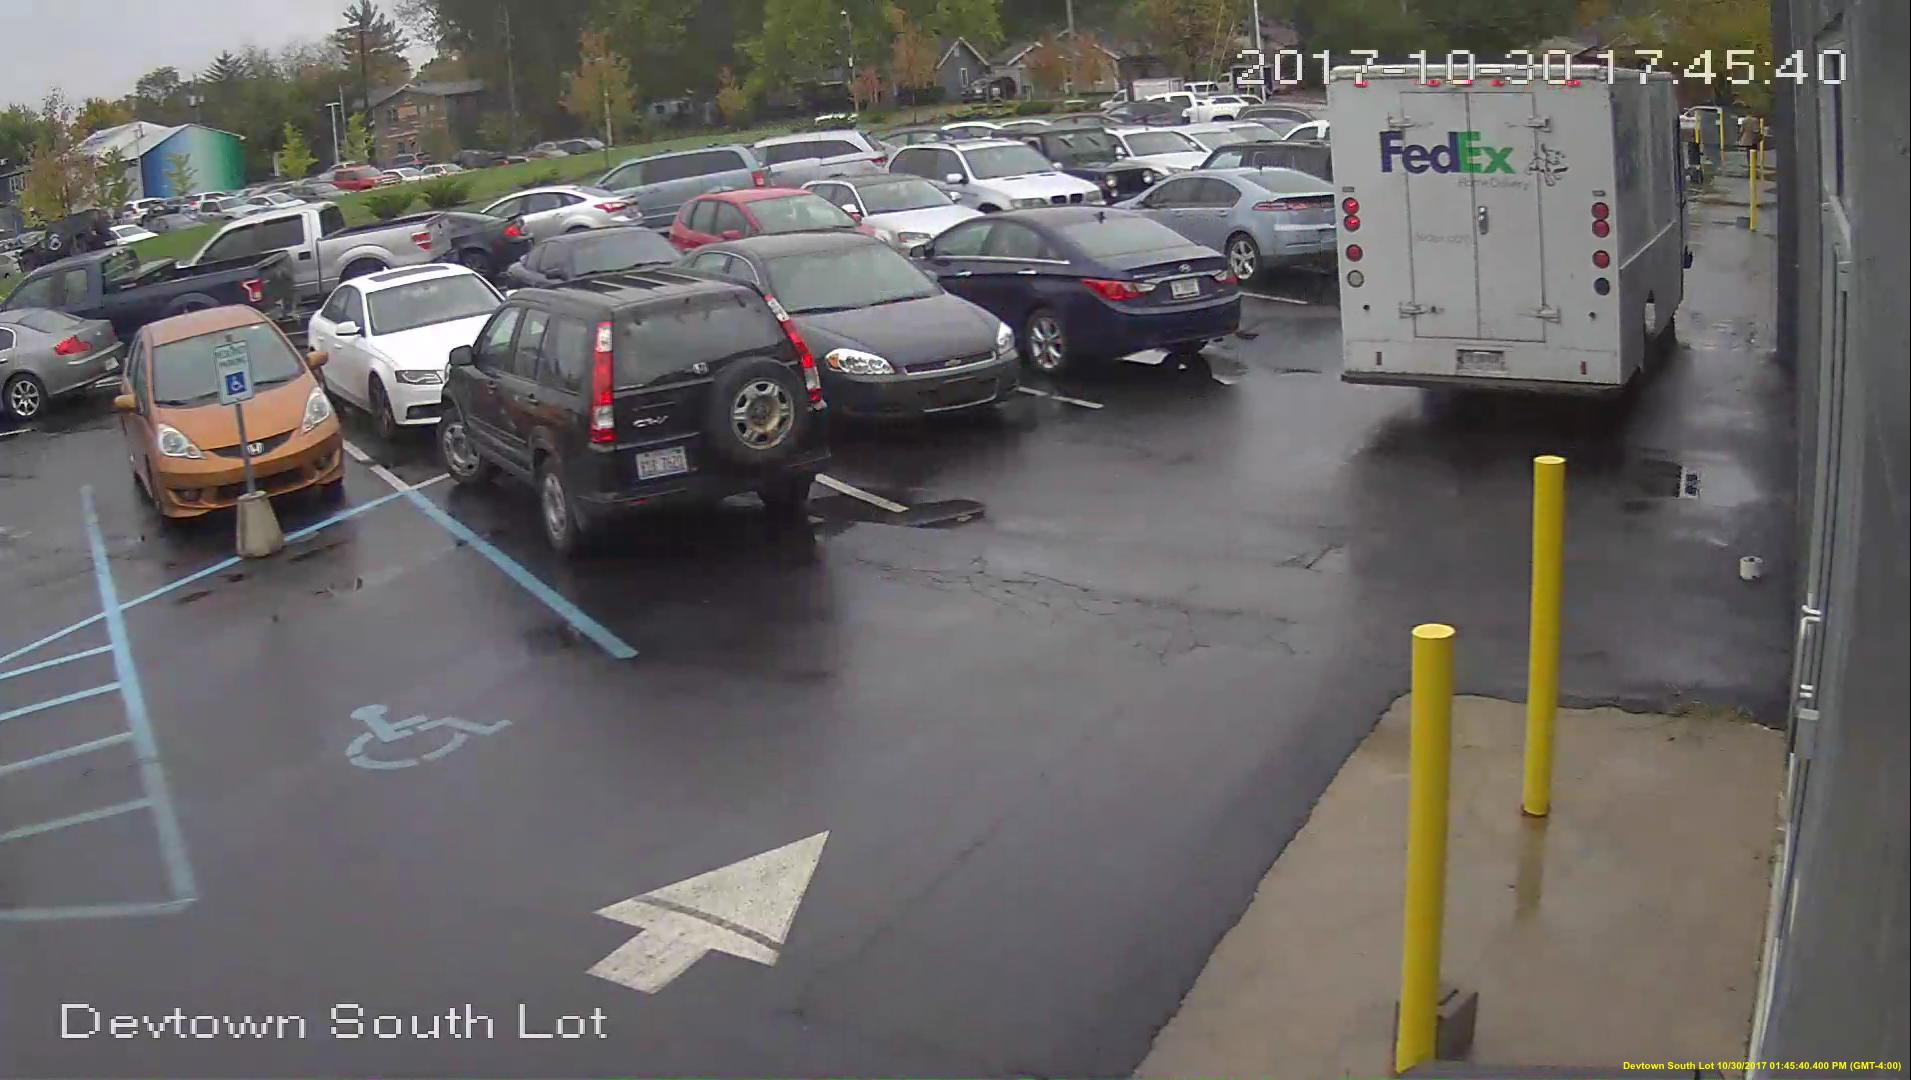fedex_truck: (1336, 70, 1680, 392)
